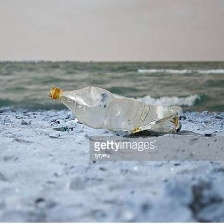bottle: (44, 77, 186, 142)
